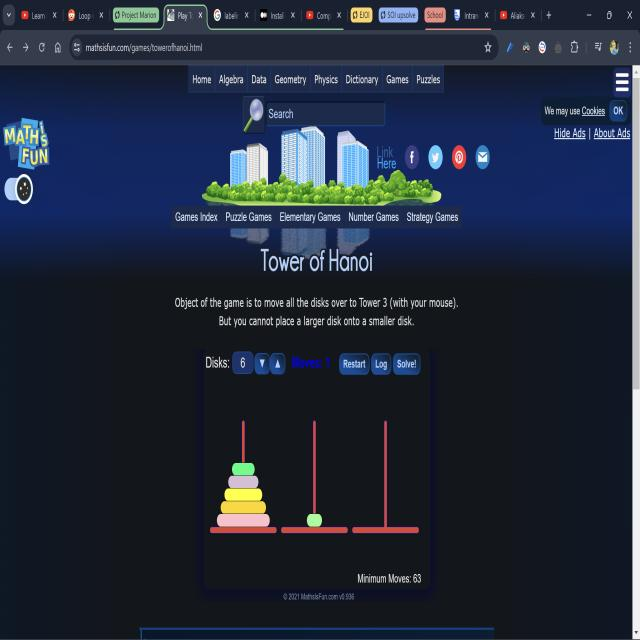disk1: (306, 514, 322, 526)
disk2: (232, 463, 255, 476)
disk3: (228, 476, 258, 488)
disk4: (224, 488, 263, 502)
disk5: (220, 502, 266, 514)
disk6: (218, 514, 270, 527)
